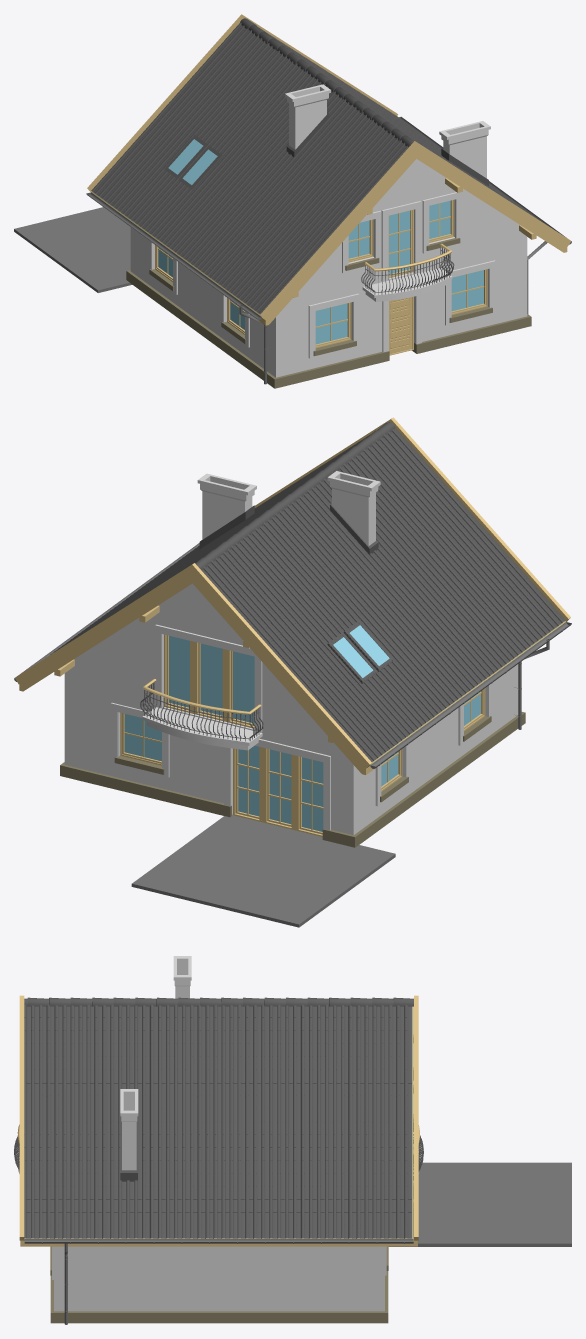
The model's file is Cyprys_House.fbx.
3 renders of one model, top to bottom at view 1: azimuth 30°, elevation 25°; view 2: azimuth 150°, elevation 25°; view 3: azimuth 270°, elevation 25°, orthographic. The views are drawn at different scales.
Visible parts, largest first — view 1: roof, walls, boards, windows, cover_window, terrace, foundation, chimneys, gutters, window_roof, barrels, parapets (+2 smaller); view 2: roof, walls, terrace, windows, boards, cover_window, chimneys, foundation, balcony, gutters, barrels, window_roof (+1 smaller); view 3: roof, walls, terrace, foundation, boards, chimneys, gutters, roof_support.
Boxes of the visible parts, bbox=[...] form: roof: bbox=[91, 18, 540, 314]; walls: bbox=[130, 159, 527, 377]; boards: bbox=[87, 14, 570, 325]; windows: bbox=[155, 200, 487, 348]; cover_window: bbox=[148, 192, 495, 358]; terrace: bbox=[14, 207, 132, 292]; foundation: bbox=[126, 270, 531, 388]; chimneys: bbox=[285, 84, 490, 186]; gutters: bbox=[86, 116, 571, 384]; window_roof: bbox=[164, 135, 222, 189]; barrels: bbox=[361, 243, 454, 294]; parapets: bbox=[149, 238, 492, 356]; roof: bbox=[50, 422, 565, 761]; walls: bbox=[64, 583, 518, 835]; terrace: bbox=[131, 815, 395, 927]; windows: bbox=[120, 634, 485, 836]; boards: bbox=[15, 417, 570, 774]; cover_window: bbox=[111, 624, 492, 830]; chimneys: bbox=[197, 471, 380, 555]; foundation: bbox=[60, 712, 525, 847]; balcony: bbox=[142, 707, 262, 750]; gutters: bbox=[14, 543, 571, 768]; barrels: bbox=[140, 678, 263, 741]; window_roof: bbox=[327, 620, 394, 683]; roof: bbox=[23, 997, 413, 1238]; walls: bbox=[54, 1246, 384, 1311]; terrace: bbox=[389, 1162, 571, 1246]; foundation: bbox=[50, 1271, 388, 1323]; boards: bbox=[19, 995, 418, 1246]; chimneys: bbox=[120, 956, 191, 1181]; gutters: bbox=[24, 1239, 413, 1324]; roof_support: bbox=[24, 1006, 413, 1240].
Bounding box in the file's own units: 1201 × 848 × 1602.
